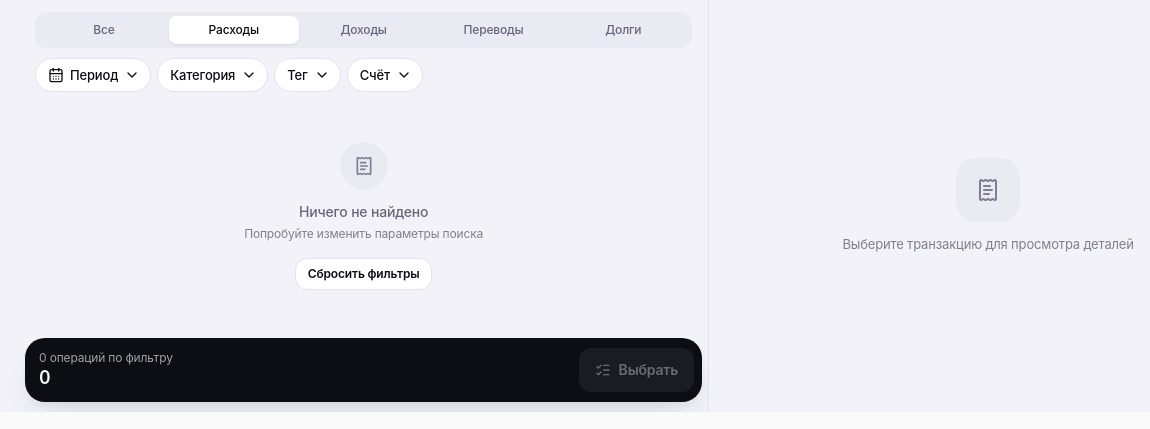
Test: HistoryPage › empty state (filtered, no results) › "Сбросить фильтры" button resets all filters
This screenshot has width=1150, height=429.
Note: Click reset filters
Click the button with test id "reset-filters-btn": click(364, 274) [295,258,432,290]
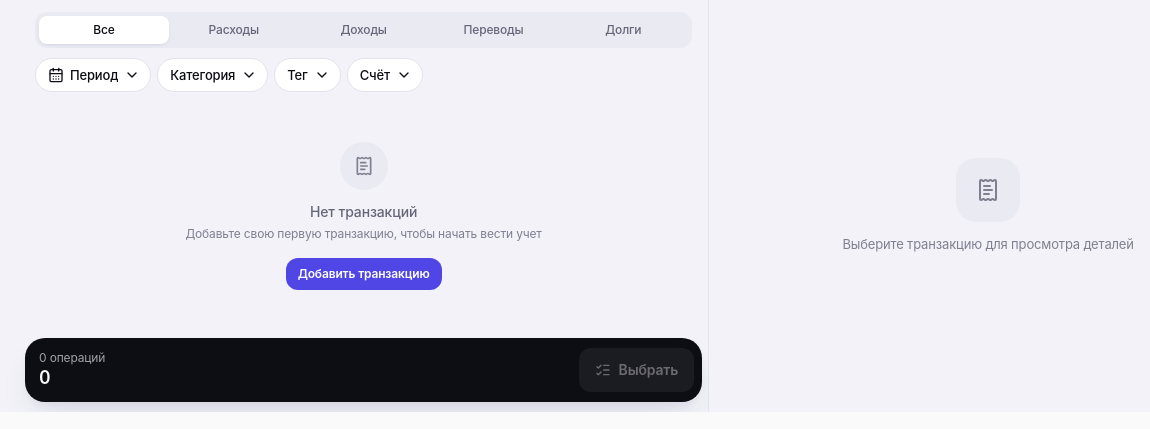
Expected: the text "Нет транзакций" is shown, [310,202,417,222]
